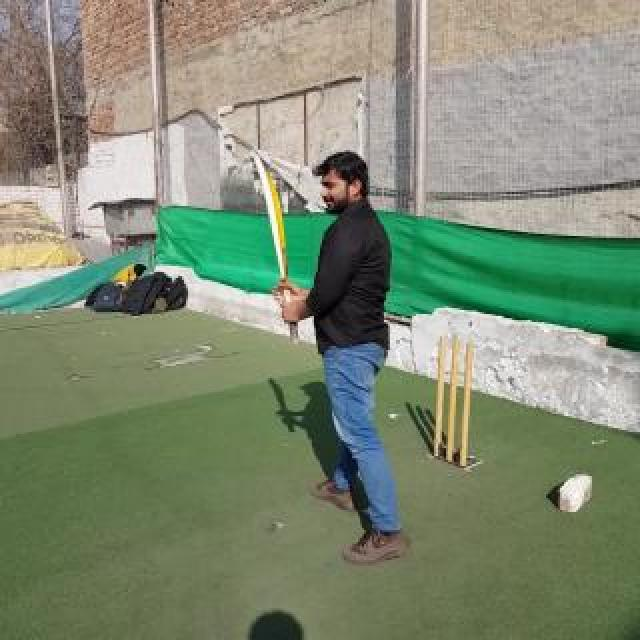bat: (253, 153, 301, 347)
